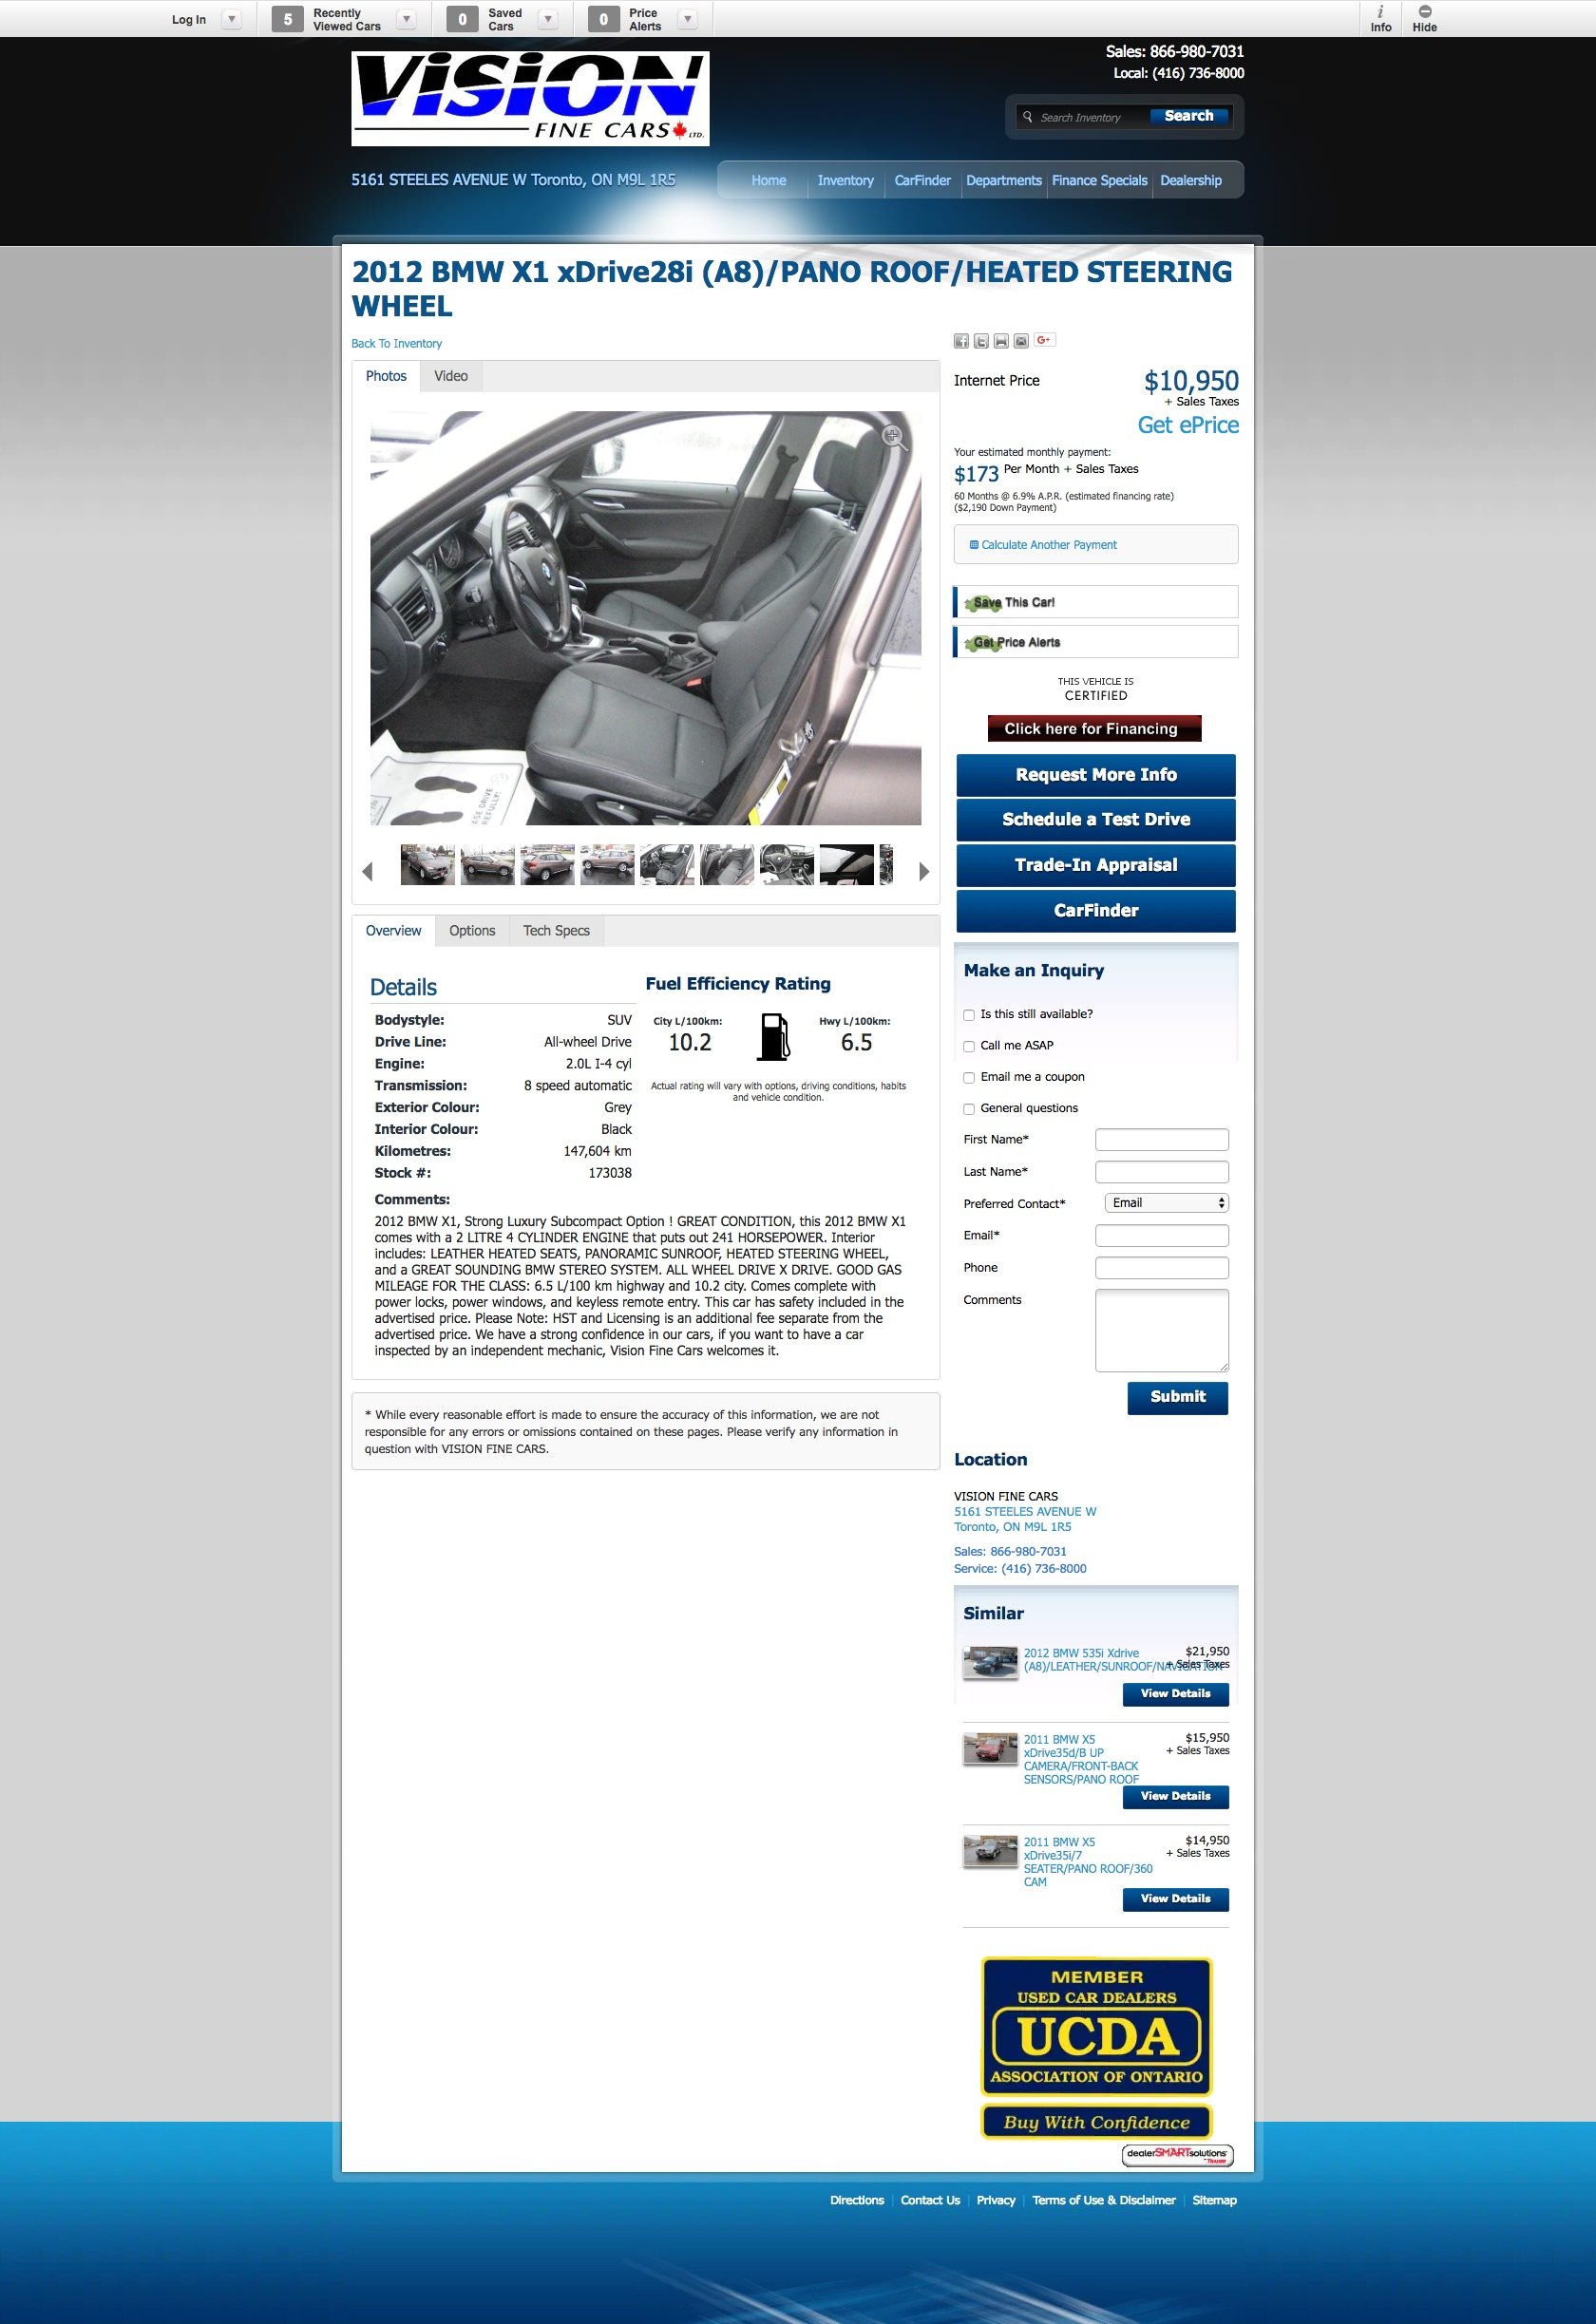car: (918, 860, 932, 885)
